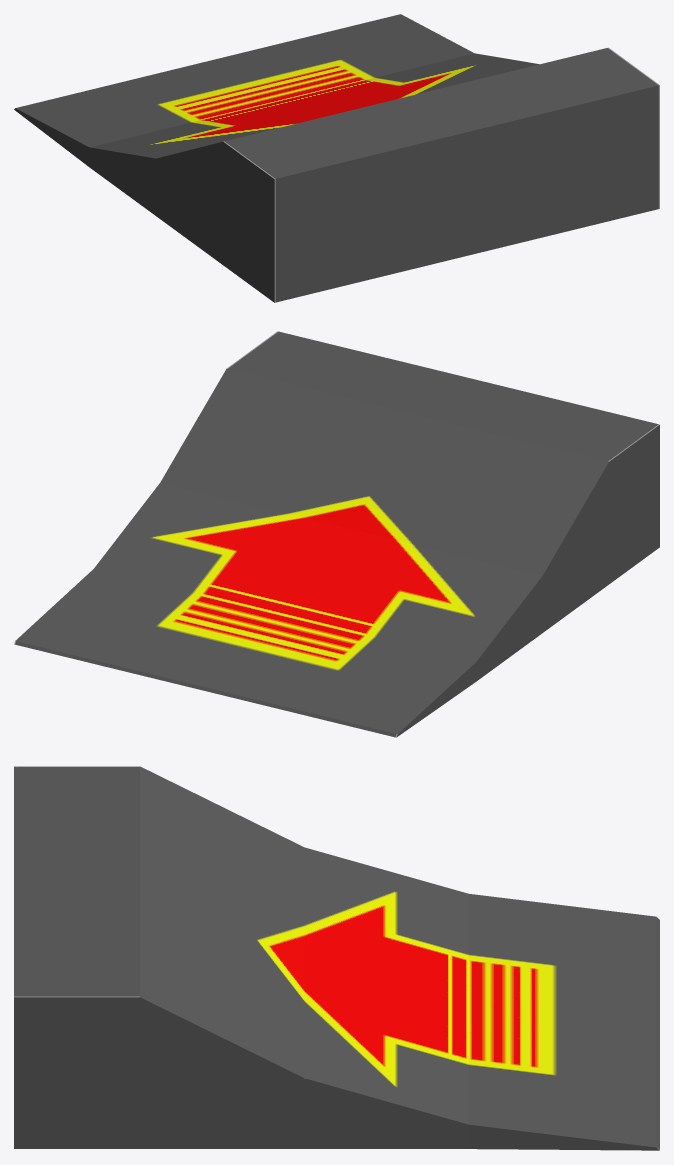
The model's file is ramp.glb.
The picture shows the model from 3 angles, top to bottom: view 1: azimuth 30°, elevation 25°; view 2: azimuth 150°, elevation 25°; view 3: azimuth 270°, elevation 25°; orthographic projection. The views are drawn at different scales.
Parts seen in each view (by area): view 1: Cube; view 2: Cube; view 3: Cube.
Boxes of the visible parts, box(x1,y1,x2,y2) form: Cube: box(14, 14, 659, 302); Cube: box(14, 331, 659, 737); Cube: box(14, 766, 659, 1150).
Size of the model in its own units: 3.35 by 1.02 by 3.93.
Materials: 1 (1 with a texture image).
